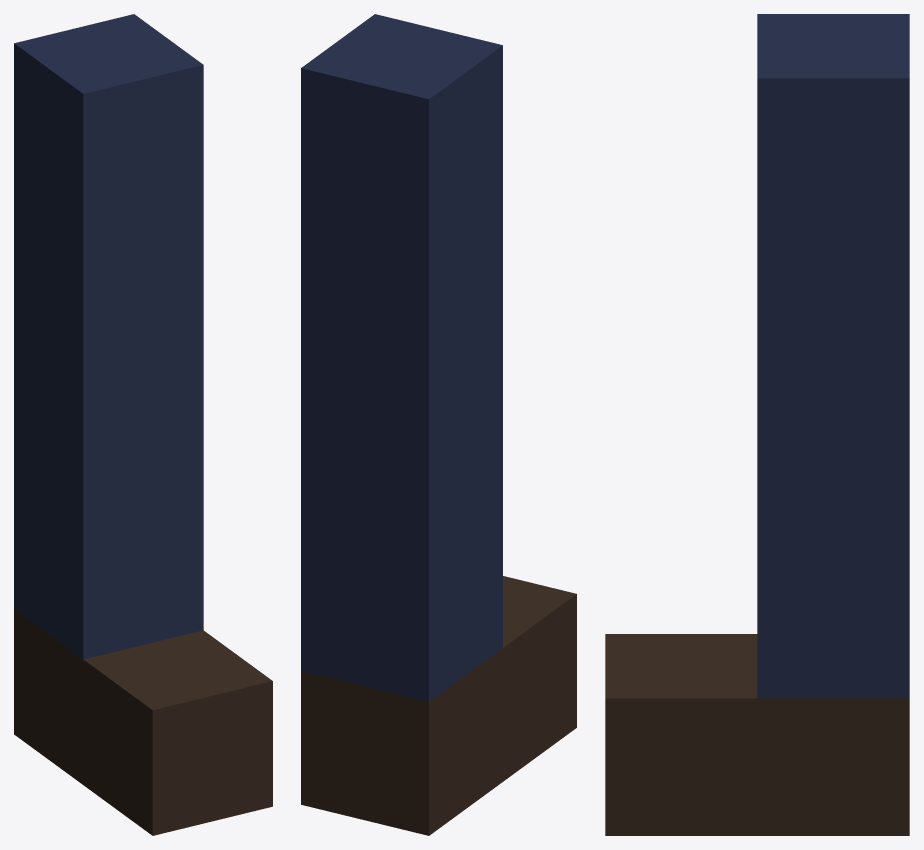
Rendered from leg.obj.
The picture shows the model from 3 angles, left to right: view 1: azimuth 30°, elevation 25°; view 2: azimuth 150°, elevation 25°; view 3: azimuth 270°, elevation 25°; orthographic projection. The views are drawn at different scales.
Size of the model in its own units: 0.2 by 1.1 by 0.4.
1 material, 1 textured.
